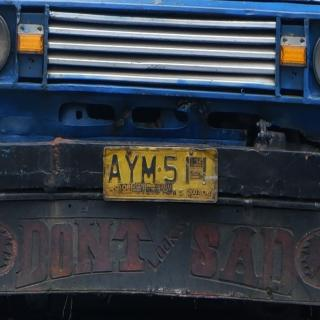license: (104, 147, 219, 204)
